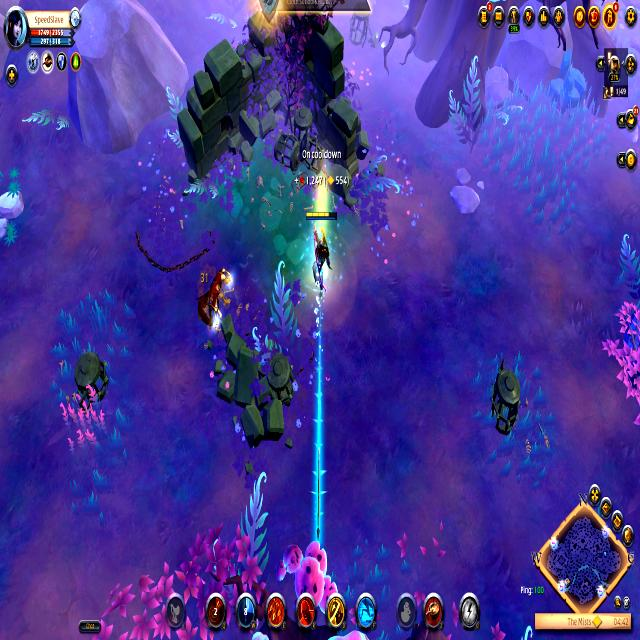ore: (196, 262, 234, 332)
red: (303, 204, 338, 290)
